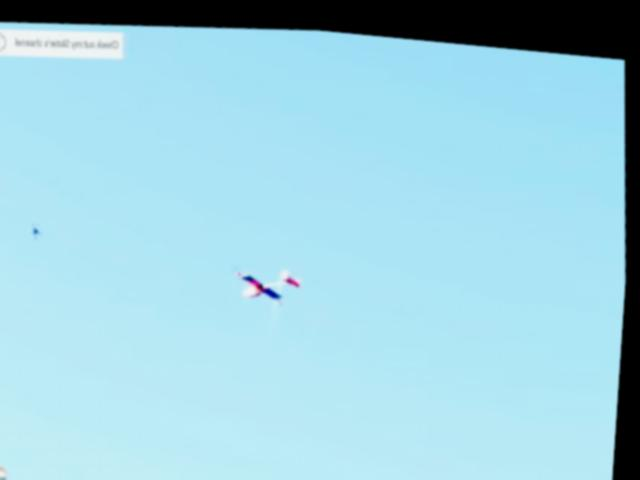uav: (223, 246, 315, 313)
